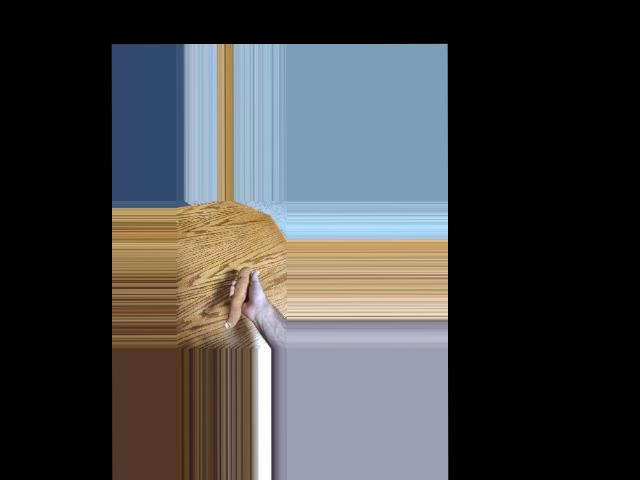sweet_potato: (234, 265, 251, 328)
